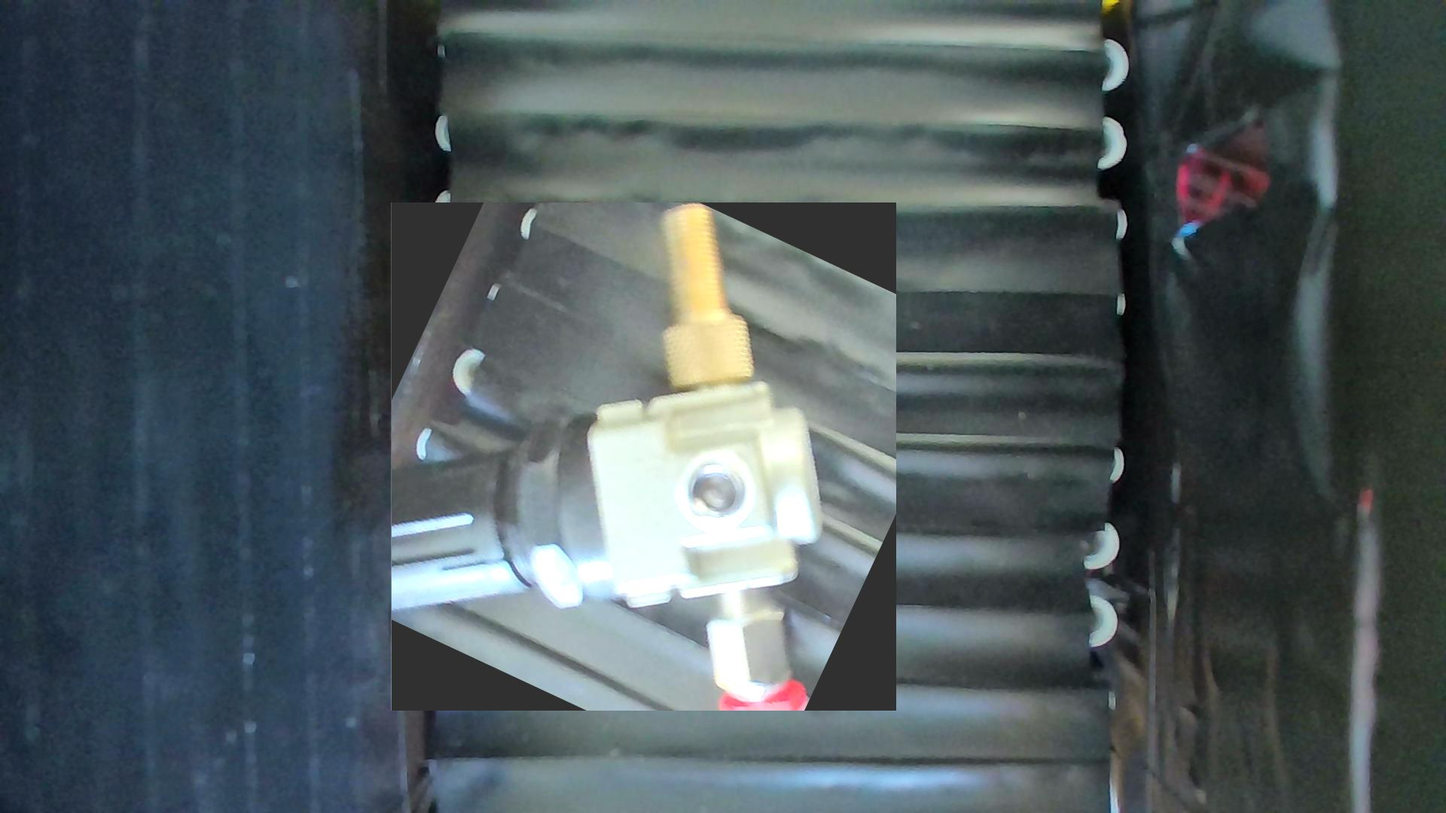regulator: (390, 203, 896, 711)
